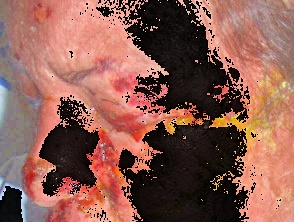SJS-TEN: (68, 41, 228, 170), (20, 130, 135, 221), (24, 0, 76, 47)
